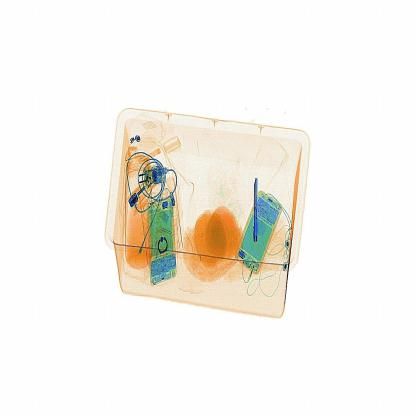pliers: (242, 166, 268, 255)
